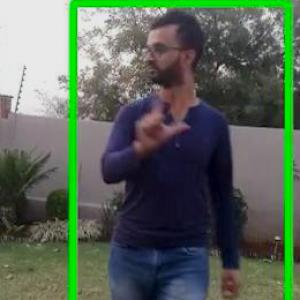land_hand: (126, 83, 188, 152)
